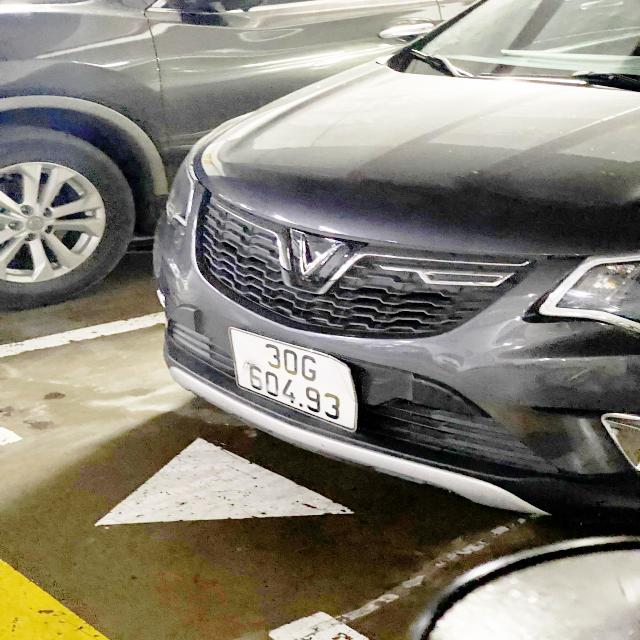license_plate: (226, 325, 360, 438)
